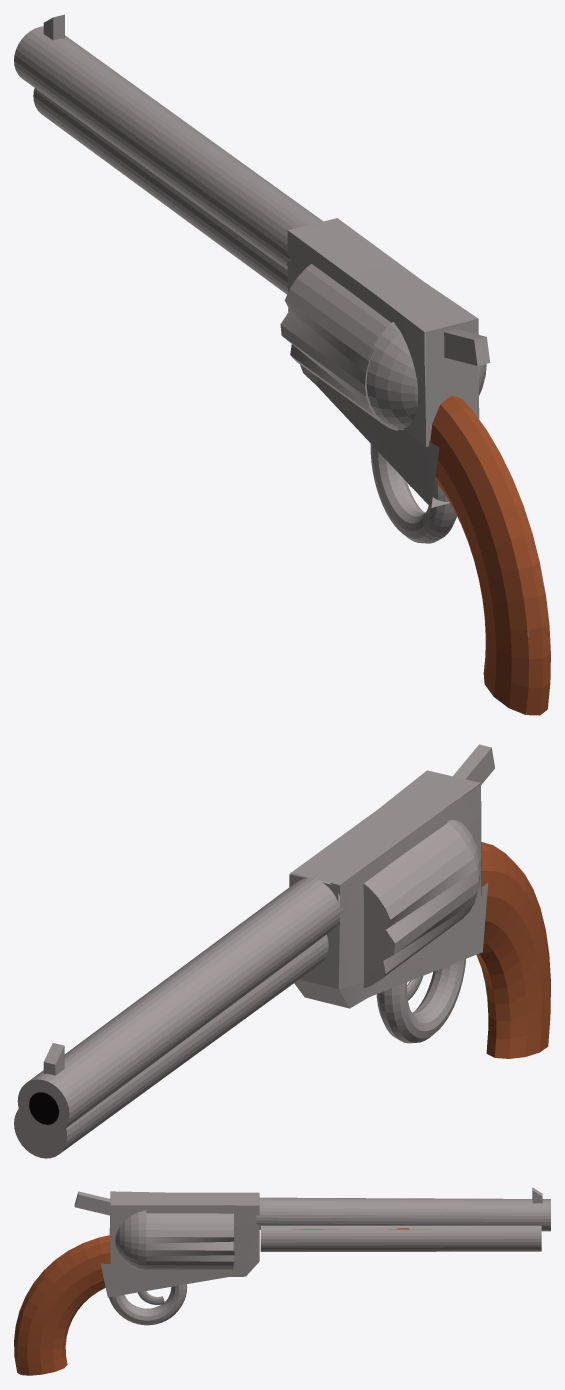
File: Gan.obj
3 renders of one model, top to bottom at view 1: azimuth 30°, elevation 25°; view 2: azimuth 150°, elevation 25°; view 3: azimuth 270°, elevation 25°, orthographic. The views are drawn at different scales.
Parts seen in each view (by area): view 1: 円柱.016; view 2: 円柱.016; view 3: 円柱.016.
Part boxes in pixels (left/top/right/bottom): 円柱.016: left=14, top=14, right=550, bottom=715; 円柱.016: left=14, top=744, right=550, bottom=1158; 円柱.016: left=14, top=1187, right=550, bottom=1375.
Size of the model in its own units: 2.2 by 6.11 by 16.13.
